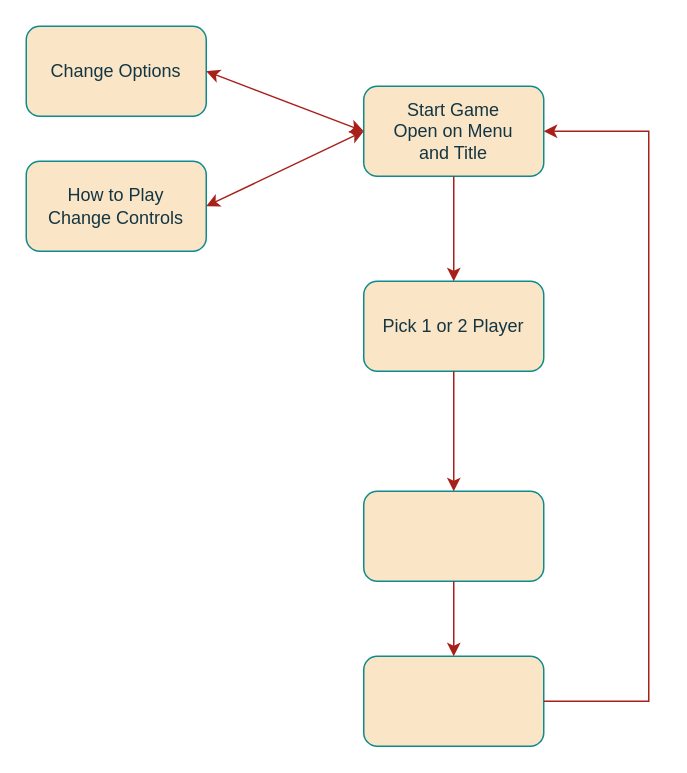
Image size: 687x773. Some labels were removed from this diagram. The shapes that lost their labels are listed below. From the top down, each one's box as (x1, y1, x2, y2) in pixels, then its label:
(362, 490, 544, 581): Play Game First to 3 Points
(362, 655, 544, 746): Win Conditions Met
